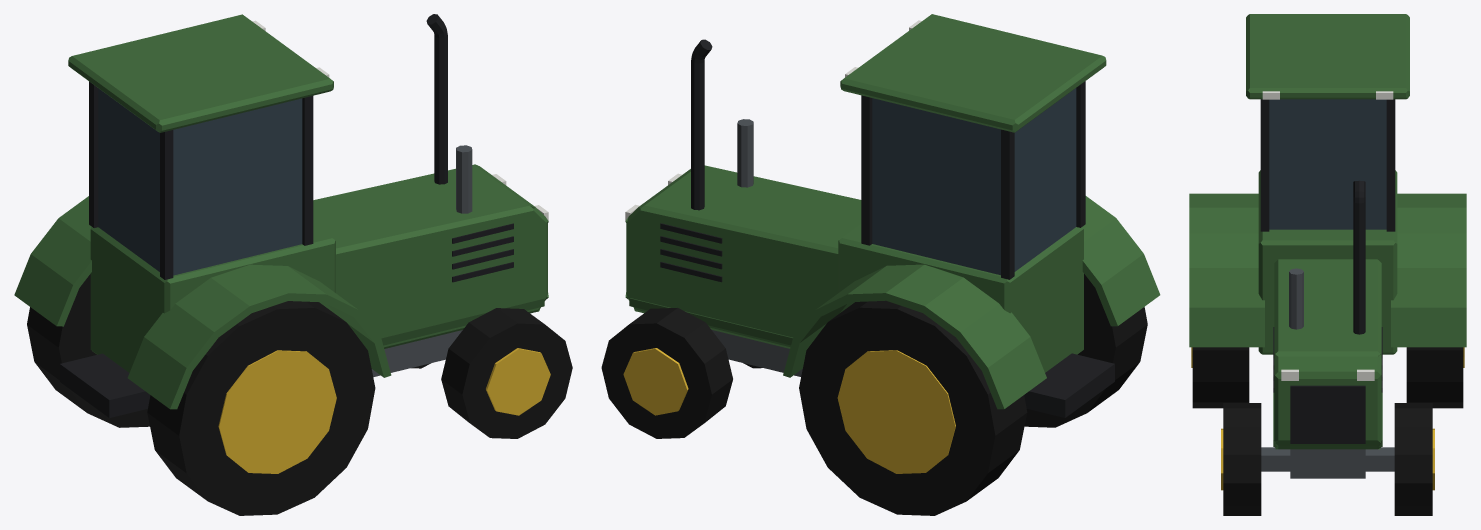
File: tracteur.glb
3 renders of one model, left to right at view 1: azimuth 30°, elevation 25°; view 2: azimuth 150°, elevation 25°; view 3: azimuth 270°, elevation 25°, orthographic. The views are drawn at different scales.
Visible parts, largest first — view 1: cab_glass, hood, rear_r, roof, fender_r, body, rim_rr, front_r, fender_l, posts, rear_l, hitch (+6 smaller); view 2: cab_glass, hood, rear_l, roof, fender_l, body, rim_rl, front_l, fender_r, posts, rear_r, hitch (+6 smaller); view 3: cab_glass, hood, roof, fender_l, fender_r, body, grille, front_l, front_r, rear_l, rear_r, posts (+4 smaller).
Part boxes in pixels (bbox=[...]): cab_glass: bbox=[98, 88, 302, 275]; hood: bbox=[313, 164, 548, 348]; rear_r: bbox=[147, 301, 375, 515]; roof: bbox=[68, 14, 333, 132]; fender_r: bbox=[127, 264, 391, 409]; body: bbox=[90, 224, 335, 372]; rim_rr: bbox=[218, 350, 336, 473]; front_r: bbox=[441, 308, 572, 438]; fender_l: bbox=[14, 196, 91, 326]; posts: bbox=[89, 81, 313, 279]; rear_l: bbox=[27, 274, 149, 427]; hitch: bbox=[60, 353, 150, 417]; cab_glass: bbox=[872, 88, 1076, 275]; hood: bbox=[625, 165, 861, 348]; rear_l: bbox=[799, 300, 1027, 515]; roof: bbox=[840, 14, 1106, 132]; fender_l: bbox=[783, 264, 1046, 409]; body: bbox=[838, 224, 1083, 372]; rim_rl: bbox=[837, 350, 955, 473]; front_l: bbox=[601, 308, 732, 438]; fender_r: bbox=[1082, 196, 1160, 326]; posts: bbox=[861, 81, 1085, 279]; rear_r: bbox=[1024, 274, 1147, 427]; hitch: bbox=[1024, 353, 1114, 417]; cab_glass: bbox=[1269, 99, 1386, 229]; hood: bbox=[1274, 259, 1381, 449]; roof: bbox=[1246, 14, 1409, 99]; fender_l: bbox=[1391, 193, 1466, 347]; fender_r: bbox=[1189, 193, 1264, 347]; body: bbox=[1258, 170, 1397, 354]; grille: bbox=[1290, 385, 1365, 443]; front_l: bbox=[1394, 403, 1432, 515]; front_r: bbox=[1223, 403, 1261, 515]; rear_l: bbox=[1406, 347, 1463, 408]; rear_r: bbox=[1192, 347, 1249, 408]; posts: bbox=[1260, 99, 1395, 231].
Size of the model in its own units: 3.57 by 3.05 by 2.2.
Materials: 8 (8 with a texture image).
